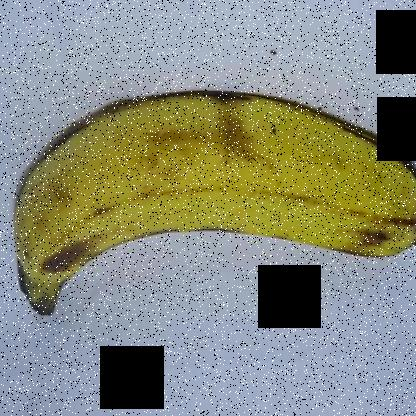ripe: (3, 74, 415, 332)
